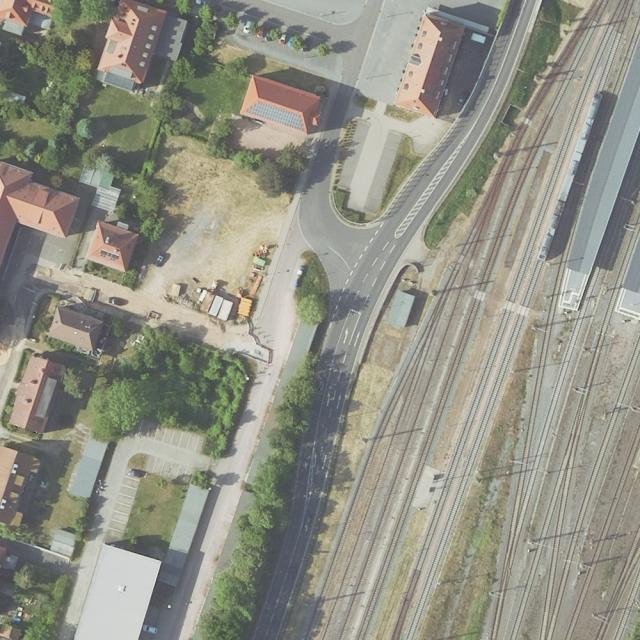PV: (246, 99, 305, 132)
ST: (99, 249, 119, 260)
